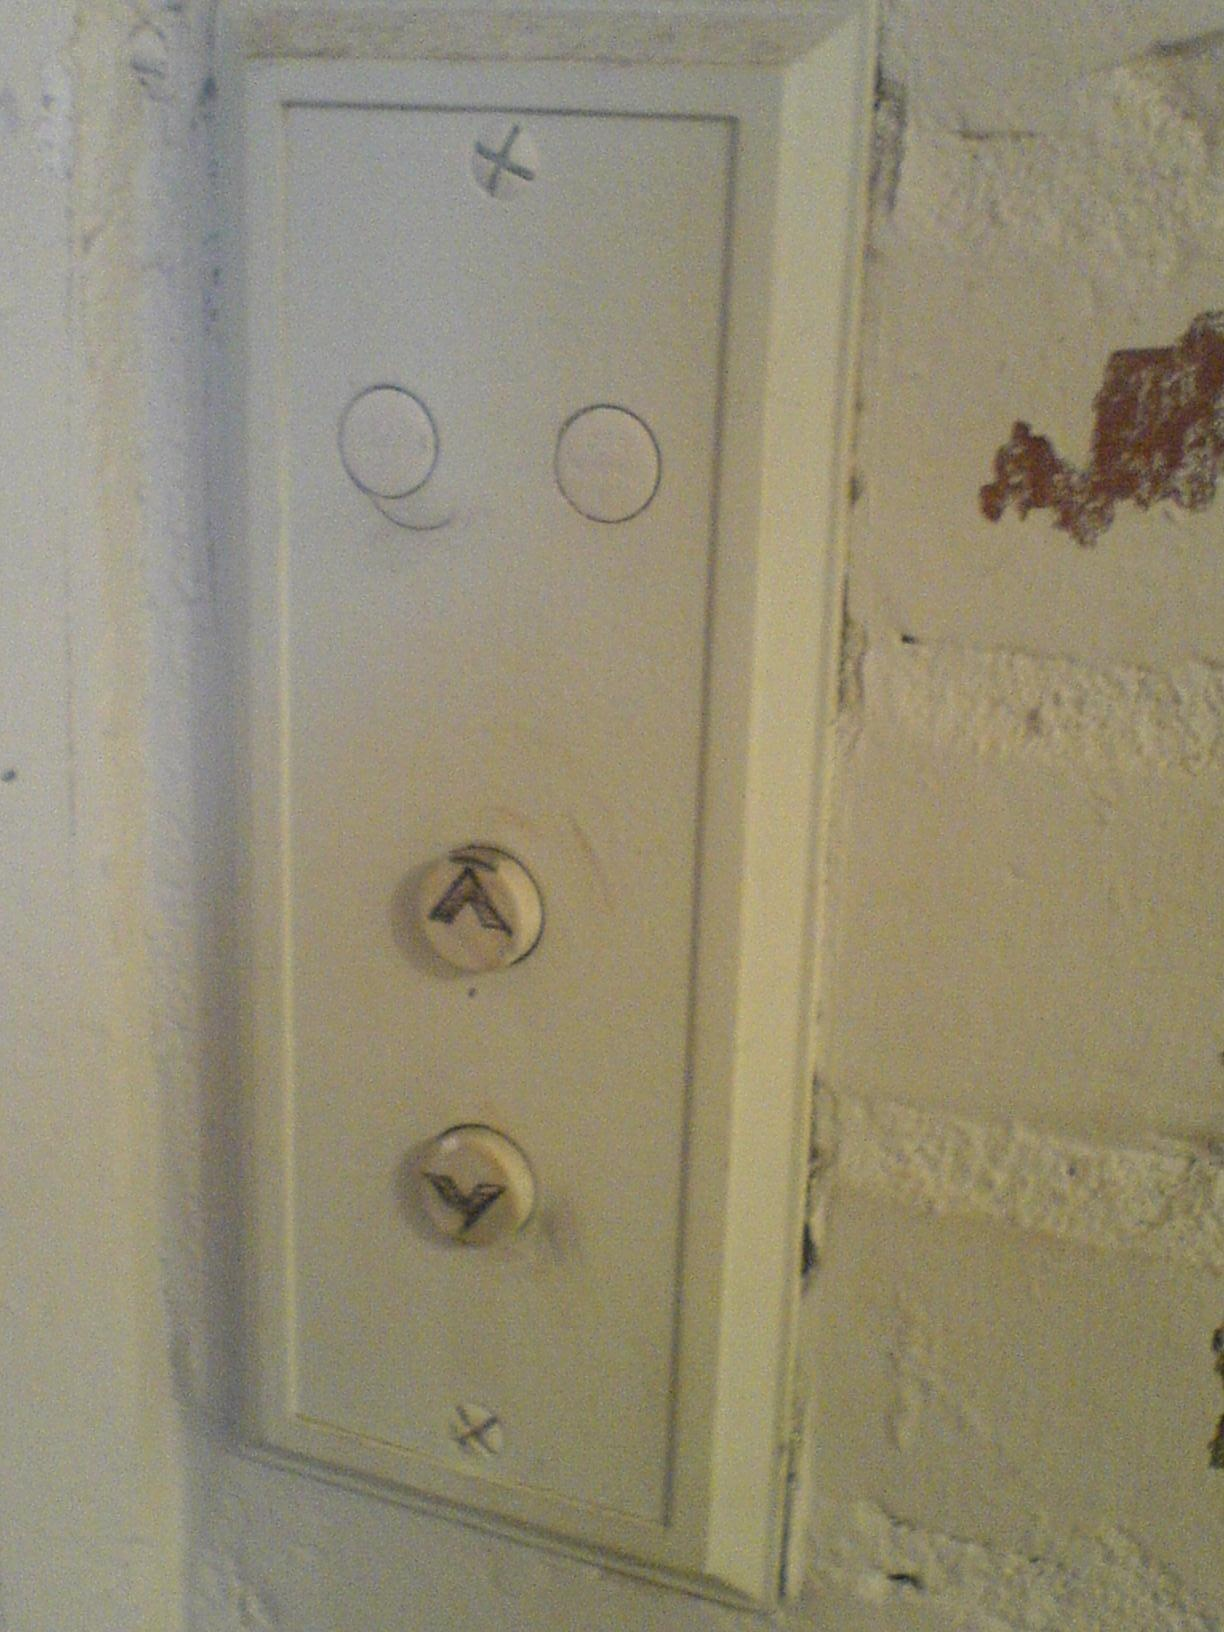down: (401, 1112, 550, 1261)
empty: (543, 395, 669, 529), (325, 373, 450, 508)
up: (404, 834, 553, 983)
